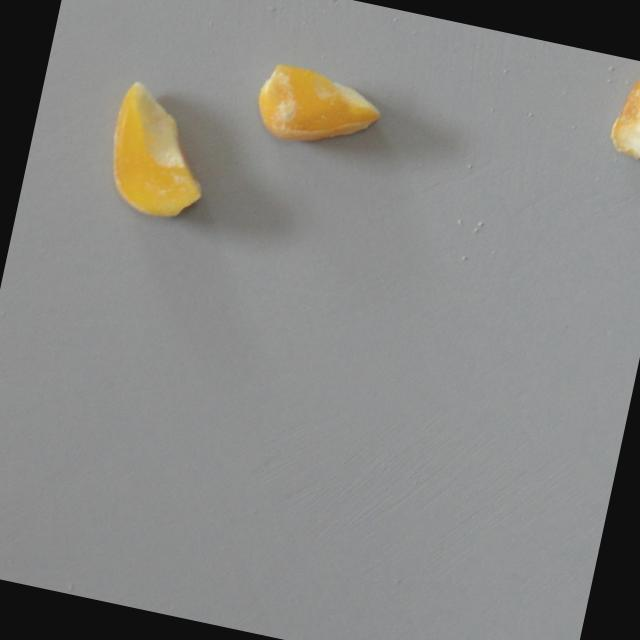estandar: (97, 75, 224, 225)
pelicula: (267, 31, 372, 168), (606, 58, 640, 164)
